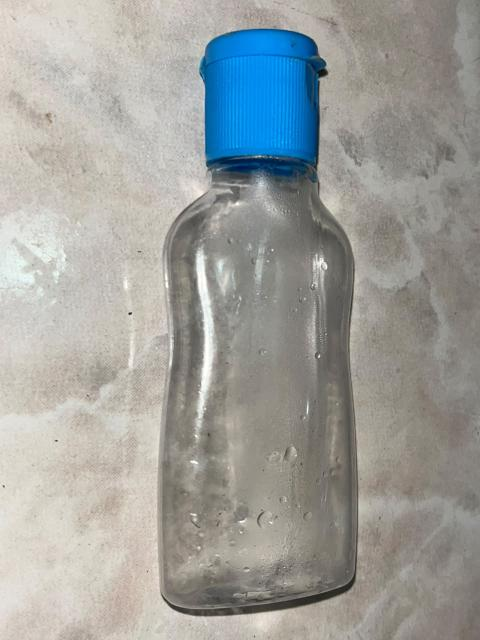PET: (165, 19, 390, 627)
